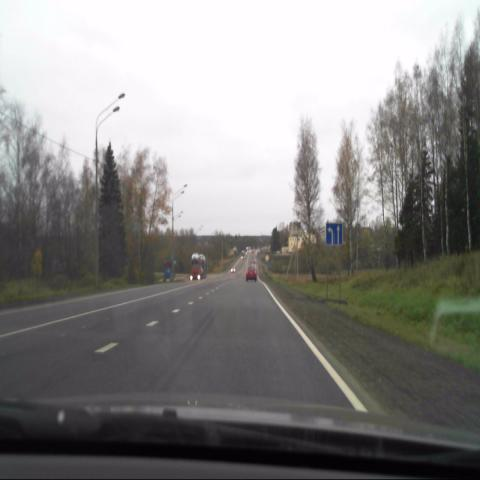5_15_2_2: (326, 221, 342, 246)
